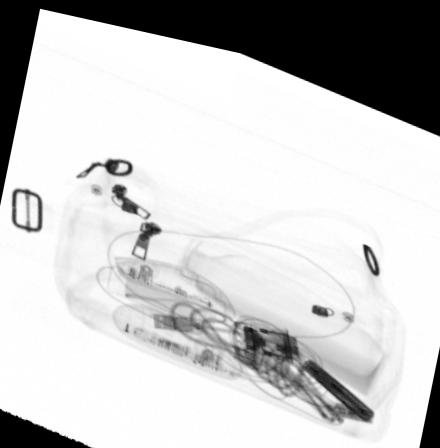Lighter: (300, 345, 375, 406)
